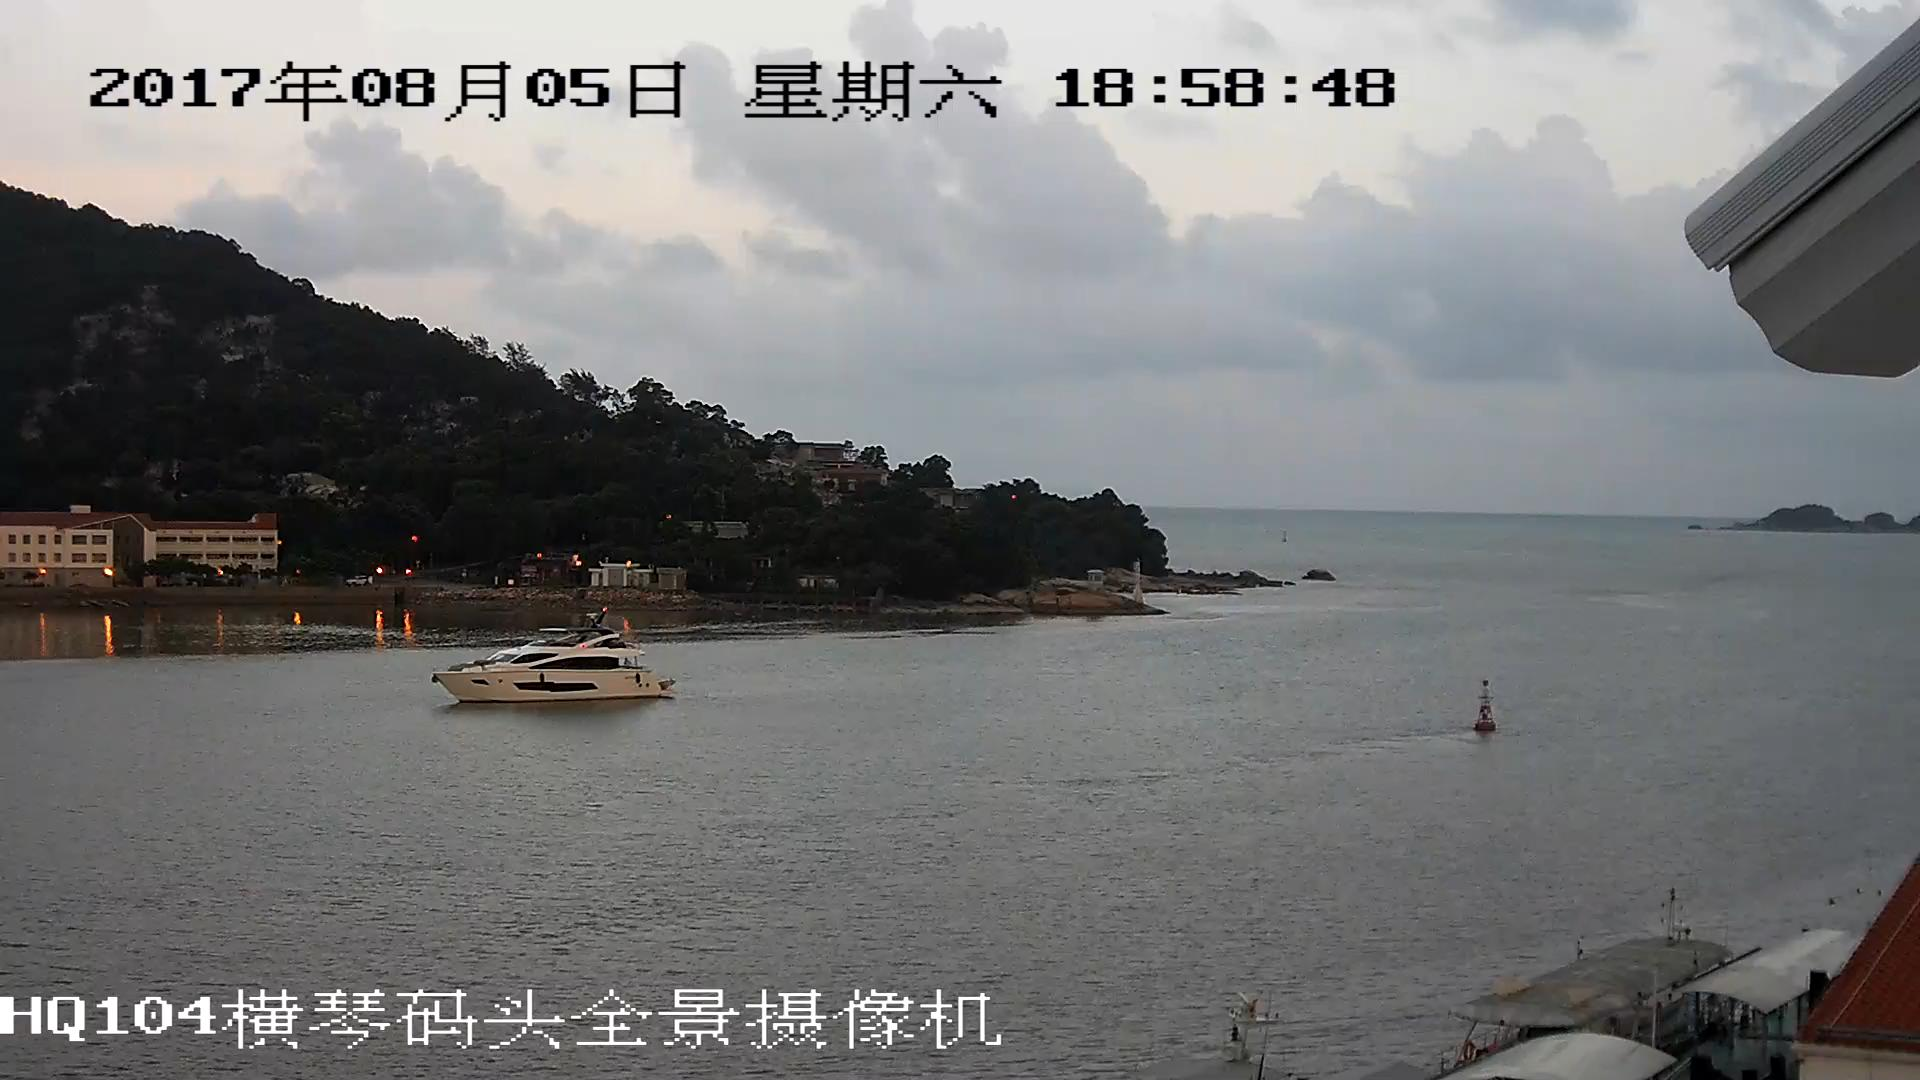passenger ship: (430, 615, 668, 704)
